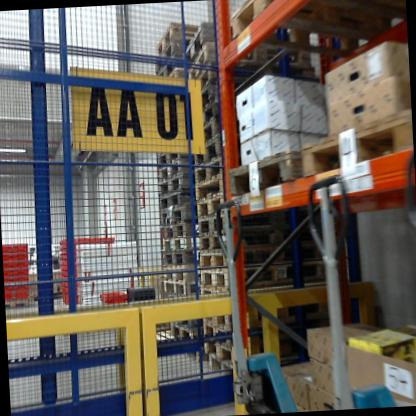pallet: (226, 0, 408, 68), (298, 105, 413, 184), (225, 141, 308, 207), (185, 203, 325, 241), (197, 256, 339, 292), (193, 223, 337, 257), (199, 239, 338, 274), (183, 18, 253, 62), (187, 63, 250, 104), (186, 39, 241, 82), (207, 352, 255, 397), (145, 31, 197, 70), (150, 16, 205, 50), (201, 311, 245, 350), (200, 285, 240, 326), (194, 79, 235, 117), (191, 156, 233, 189), (157, 274, 204, 302), (160, 249, 213, 273), (193, 171, 234, 201), (183, 118, 221, 149), (157, 236, 210, 256), (151, 206, 204, 226), (153, 161, 198, 184), (152, 176, 203, 196), (153, 53, 192, 79), (156, 221, 206, 239), (191, 139, 226, 164), (197, 101, 227, 130), (151, 148, 190, 170), (193, 194, 227, 218), (159, 193, 204, 211), (161, 322, 200, 342), (172, 308, 205, 331), (161, 264, 209, 277), (162, 67, 191, 86), (6, 295, 31, 312)
pallet_truck: (304, 174, 405, 410), (213, 194, 318, 414)
small_load_carrier: (89, 290, 130, 314), (15, 286, 31, 304), (4, 285, 15, 305)
